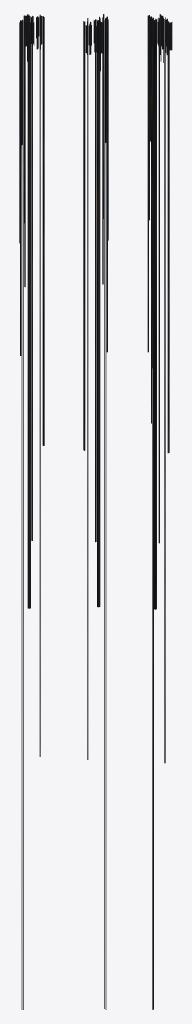
3 views of the same model, side by side, from view 1: azimuth 30°, elevation 25°; view 2: azimuth 210°, elevation 25°; view 3: azimuth 330°, elevation 25° (orthographic).
Parts seen in each view (by area): view 1: Cube.039; view 2: Cube.039; view 3: Cube.039.
Part boxes in pixels (bbox=[...]): Cube.039: bbox=[19, 14, 44, 1009]; Cube.039: bbox=[83, 14, 108, 1009]; Cube.039: bbox=[147, 14, 172, 1009].
Size of the model in its own units: 147002 by 5924528 by 86835.
